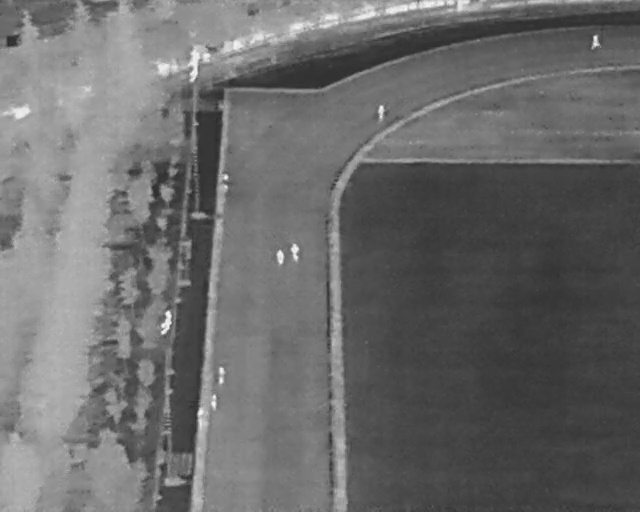Person: (291, 243, 300, 263), (217, 367, 226, 386), (221, 173, 229, 193), (198, 407, 205, 428), (276, 249, 285, 265), (592, 35, 600, 50), (211, 394, 218, 411), (378, 104, 384, 122)
